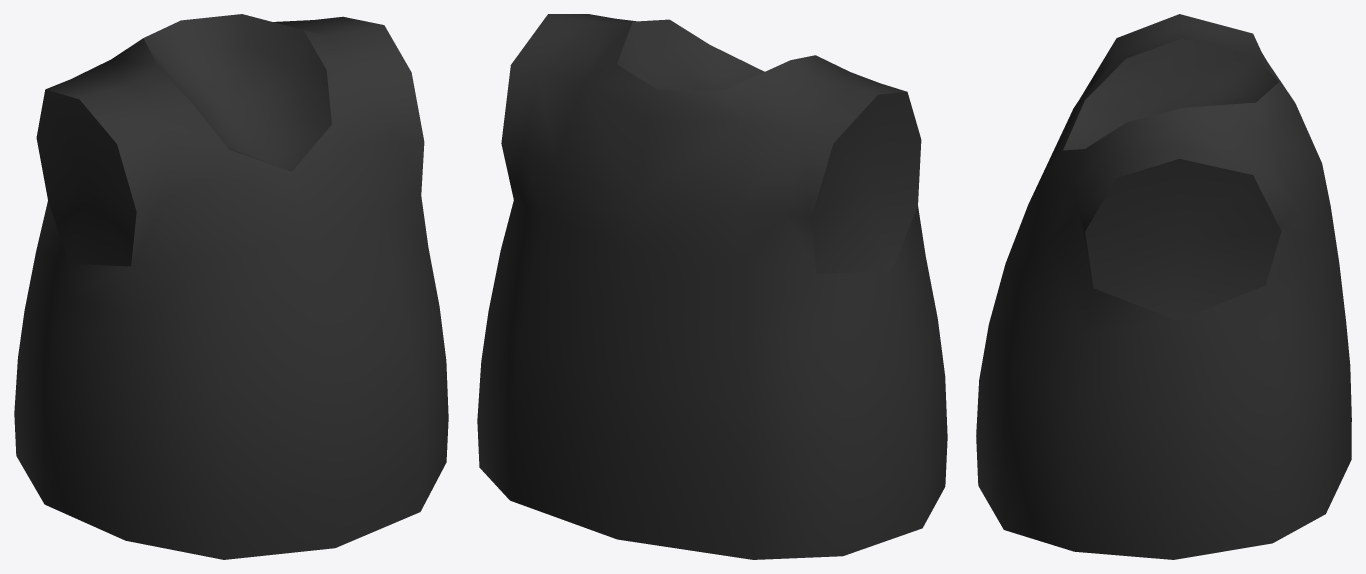
The model's file is Top_61.fbx.
The picture shows the model from 3 angles, left to right: view 1: azimuth 30°, elevation 25°; view 2: azimuth 150°, elevation 25°; view 3: azimuth 270°, elevation 25°; orthographic projection. The views are drawn at different scales.
Visible parts, largest first — view 1: Top_61; view 2: Top_61; view 3: Top_61.
Part boxes in pixels (bbox=[...]): Top_61: bbox=[14, 14, 448, 559]; Top_61: bbox=[477, 14, 947, 559]; Top_61: bbox=[976, 14, 1351, 559].
Size of the model in its own units: 41 by 43.35 by 35.79.
